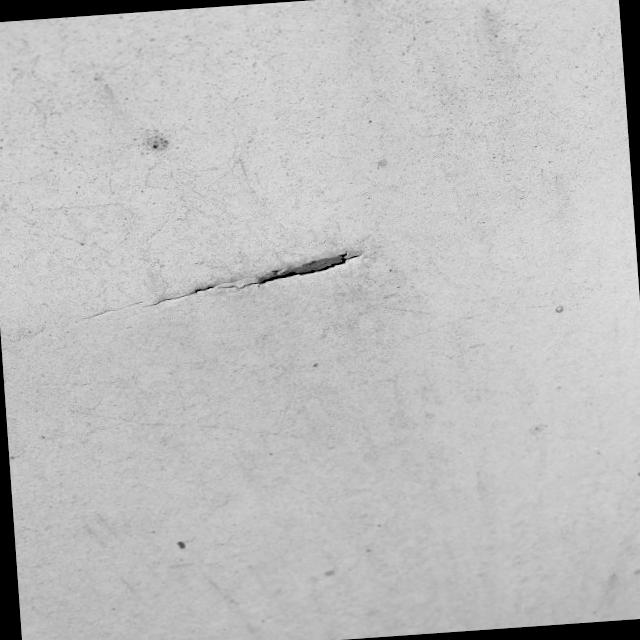crack: (179, 243, 354, 306)
